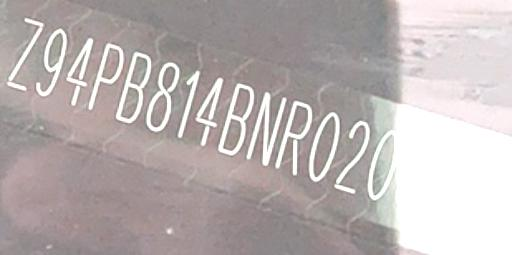letter: (240, 92, 290, 163), (4, 16, 48, 93), (273, 99, 317, 170), (361, 128, 405, 199), (112, 52, 156, 121), (216, 83, 258, 154), (84, 43, 128, 110), (332, 121, 372, 194), (390, 138, 430, 210), (32, 26, 72, 97), (422, 147, 462, 216), (450, 153, 488, 225), (304, 112, 346, 175), (146, 61, 184, 130), (63, 34, 99, 101), (196, 74, 228, 145), (172, 67, 204, 136)
